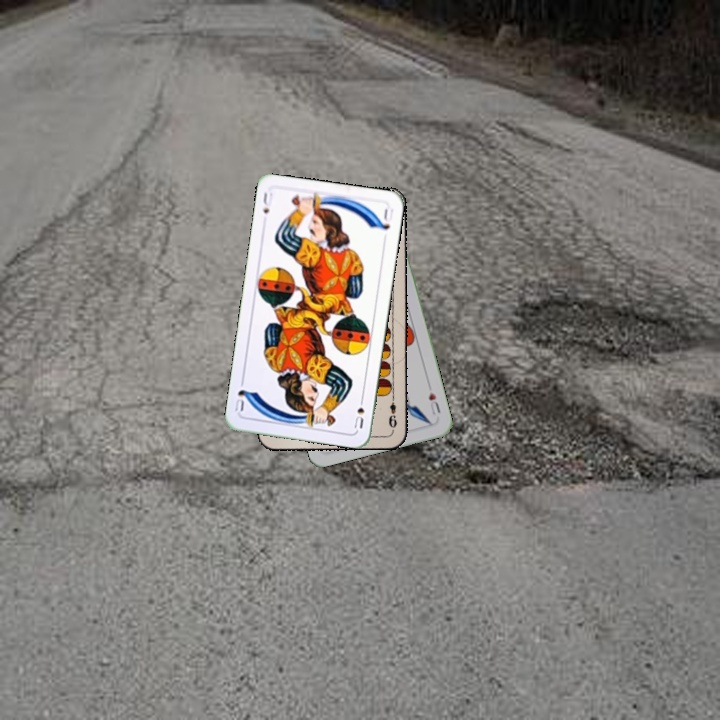E9: (384, 392, 399, 430)
HU: (424, 388, 443, 418)
SU: (350, 392, 367, 431), (259, 188, 275, 216)
